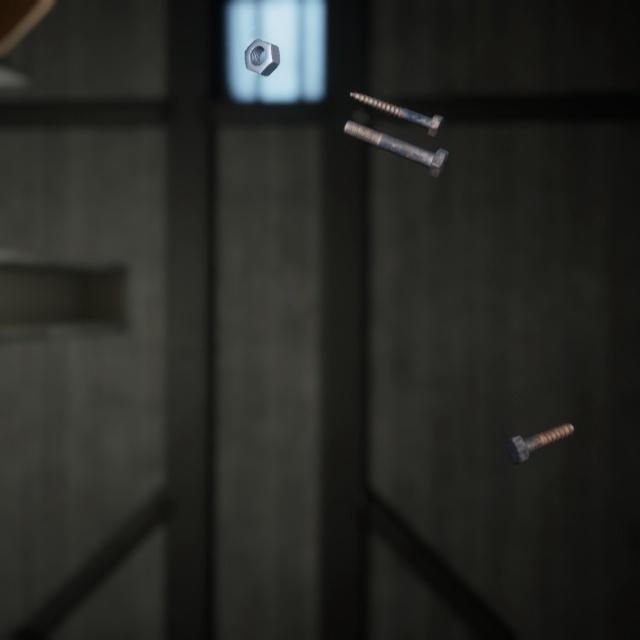bolt: (339, 104, 453, 170), (345, 76, 448, 130), (501, 398, 578, 448)
nut: (240, 23, 284, 70)
